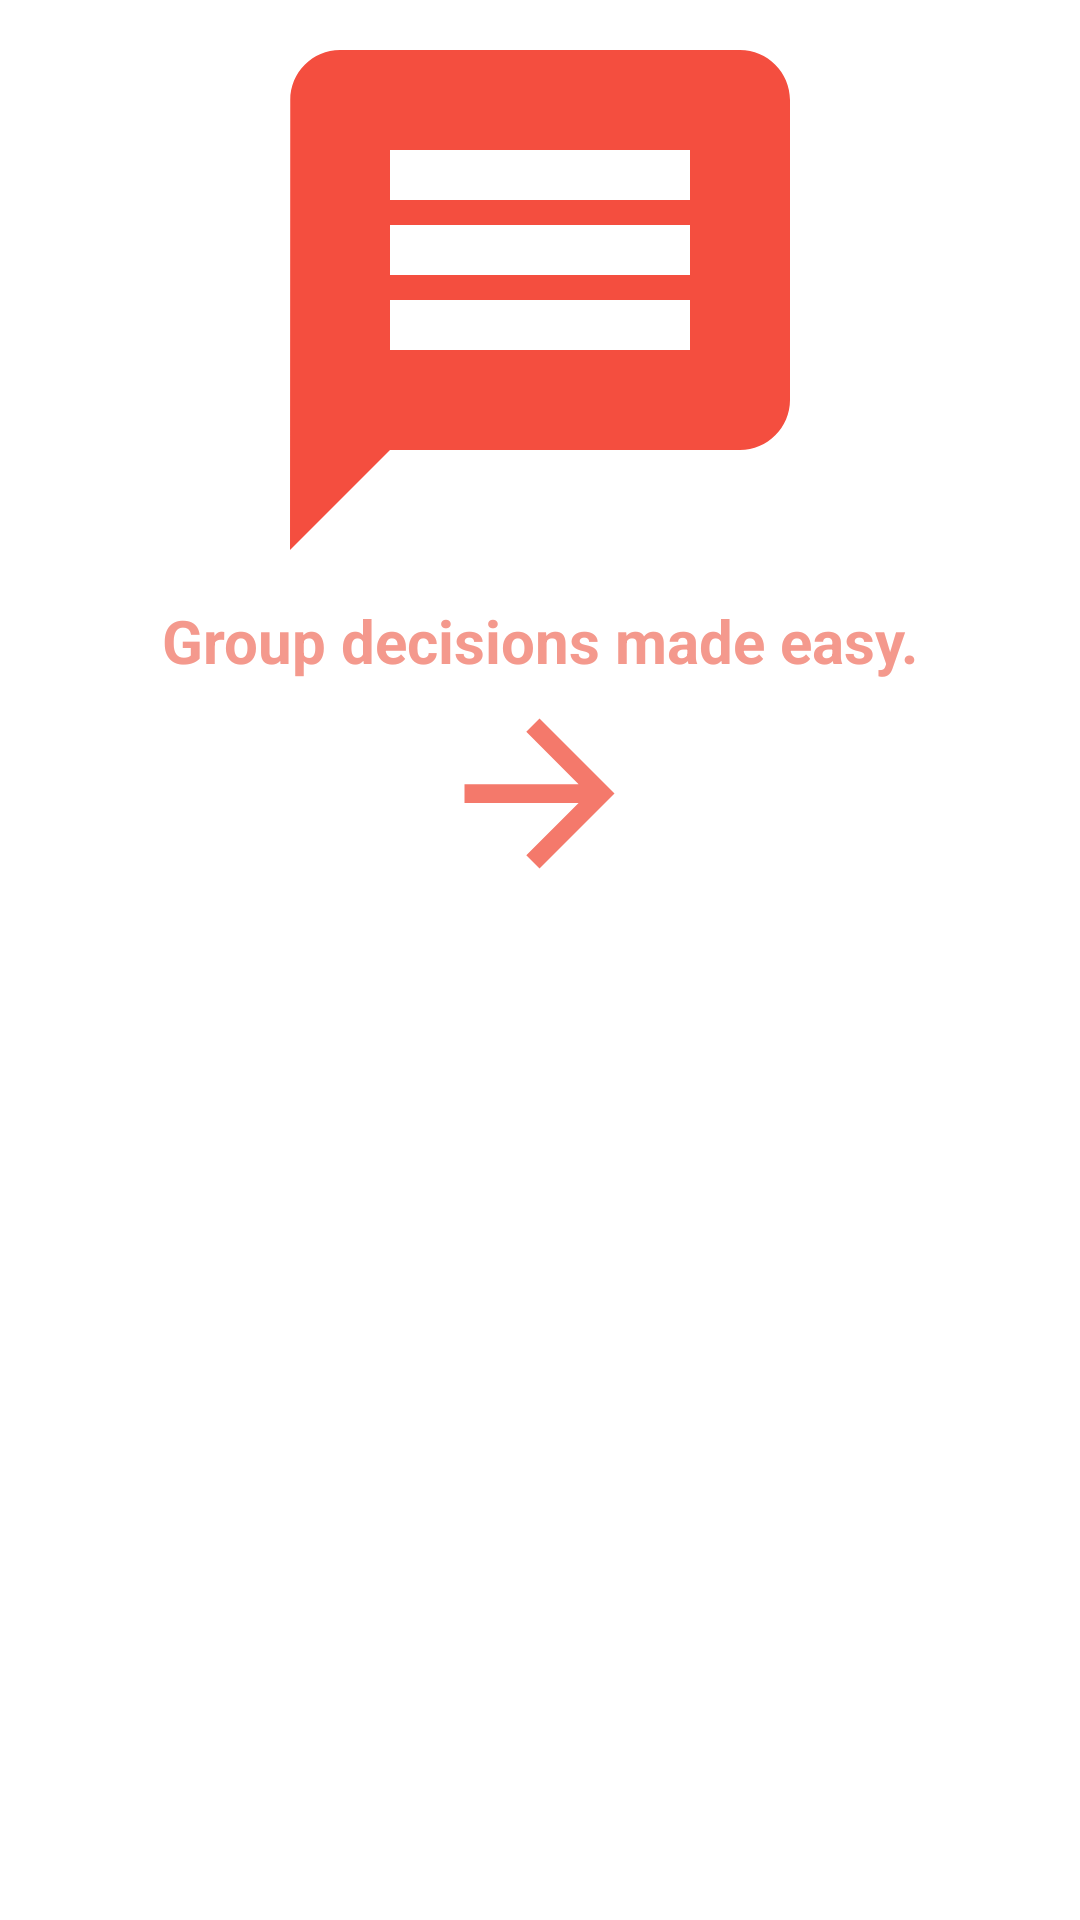

Icons on this 1080x1920 Android screen, each with the point to tap as (x=x, y=y):
arrow forward: (x=539, y=793)
